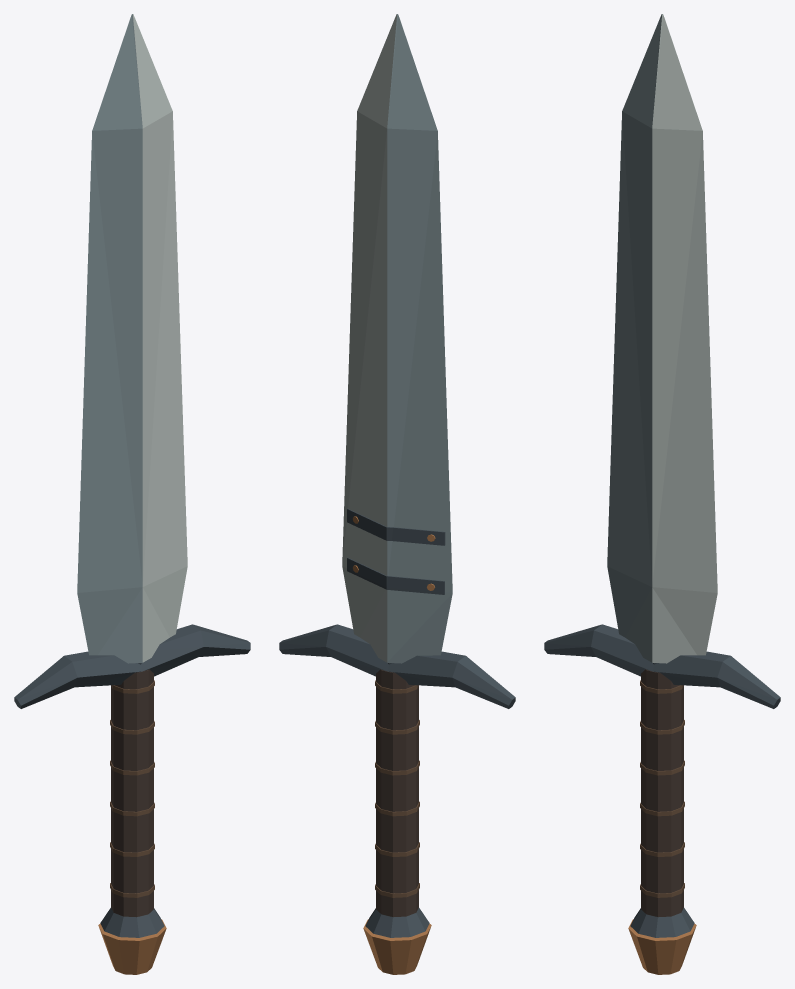
The model's file is AEW_Greatsword_GraveBell.fbx.
The picture shows the model from 3 angles, left to right: view 1: azimuth 30°, elevation 25°; view 2: azimuth 150°, elevation 25°; view 3: azimuth 330°, elevation 25°; orthographic projection.
Parts seen in each view (by area): view 1: AEW_Greatsword_GraveBell; view 2: AEW_Greatsword_GraveBell; view 3: AEW_Greatsword_GraveBell.
Boxes of the visible parts, x1,y1,x2,y2 form: AEW_Greatsword_GraveBell: (14,14,250,974); AEW_Greatsword_GraveBell: (279,14,515,974); AEW_Greatsword_GraveBell: (544,14,780,974).
Bounding box in the file's own units: 0.5481 × 2.14 × 0.1331.
